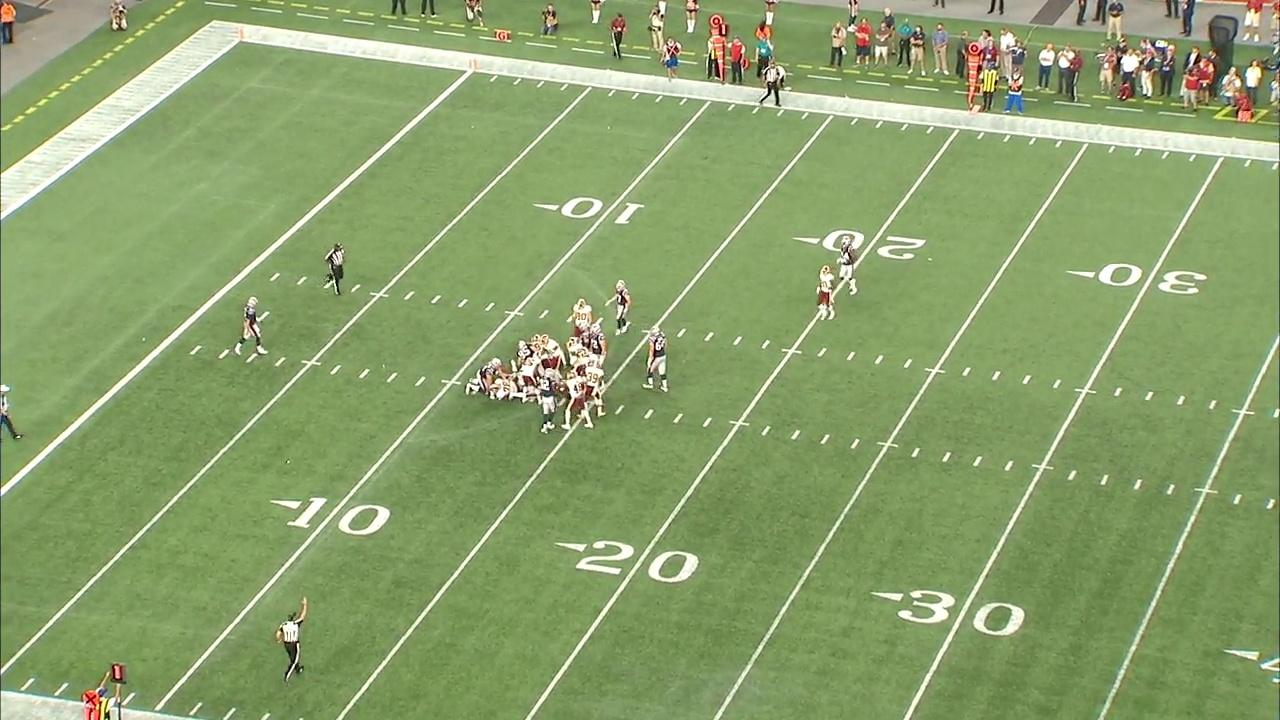five_hash: (1231, 407, 1255, 417), (923, 366, 947, 375), (1073, 387, 1098, 395), (1030, 463, 1055, 471), (876, 441, 899, 449), (728, 419, 751, 427), (781, 347, 803, 355), (1194, 487, 1219, 494), (504, 309, 525, 317), (441, 378, 461, 386), (300, 359, 322, 366), (369, 291, 389, 298)
hash: (1097, 472, 1113, 488), (970, 453, 986, 469), (187, 342, 204, 357), (702, 329, 717, 344), (1205, 398, 1221, 412), (1002, 457, 1016, 473), (456, 296, 471, 310), (483, 299, 498, 313), (849, 436, 863, 451), (818, 432, 833, 446), (642, 407, 657, 421), (612, 402, 627, 416), (357, 366, 372, 380), (217, 346, 231, 361), (1066, 468, 1080, 482), (267, 271, 282, 284), (244, 352, 260, 364), (294, 274, 308, 287), (402, 289, 416, 302), (537, 307, 551, 320), (675, 326, 689, 339), (758, 338, 772, 351), (872, 353, 886, 366), (1020, 373, 1034, 386), (1174, 394, 1188, 407), (1164, 482, 1178, 495), (939, 450, 953, 463), (759, 424, 773, 437), (701, 415, 714, 429), (671, 412, 685, 425), (413, 375, 427, 388), (386, 371, 399, 385), (1266, 496, 1277, 512), (731, 334, 744, 347), (901, 357, 914, 370), (1050, 377, 1063, 390), (1143, 389, 1156, 402), (1231, 493, 1244, 506), (909, 446, 922, 459), (329, 363, 342, 376), (274, 355, 287, 368), (429, 293, 443, 305), (815, 346, 829, 358), (349, 282, 362, 294), (845, 350, 858, 362), (960, 366, 973, 378), (1112, 386, 1125, 398), (1132, 478, 1145, 490), (789, 428, 802, 440), (990, 370, 1002, 381), (1272, 406, 1280, 420)
marker: (709, 13, 727, 84), (967, 42, 981, 107), (81, 690, 100, 720)
